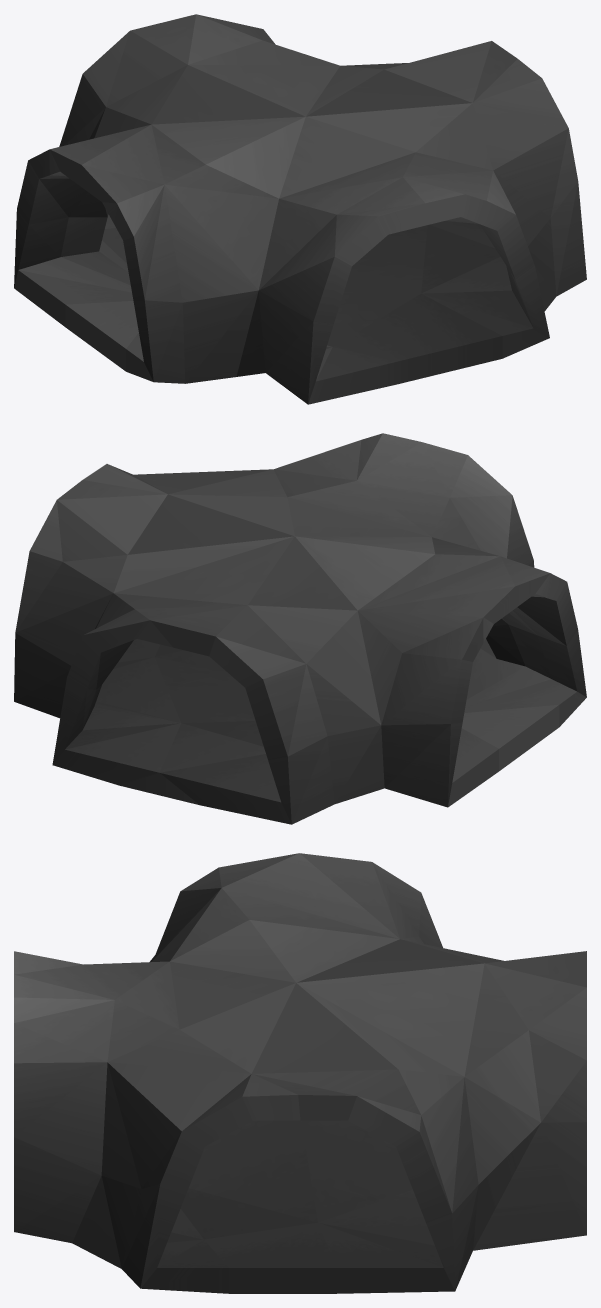
File: GL-Cave-part-02-LOD3.fbx
3 views of the same model, one above another, from view 1: azimuth 30°, elevation 25°; view 2: azimuth 150°, elevation 25°; view 3: azimuth 270°, elevation 25° (orthographic). The views are drawn at different scales.
Parts seen in each view (by area): view 1: GL_Cave_part_02; view 2: GL_Cave_part_02; view 3: GL_Cave_part_02.
Part boxes in pixels (left/top/right/bottom): GL_Cave_part_02: left=14, top=14, right=586, bottom=404; GL_Cave_part_02: left=14, top=433, right=586, bottom=824; GL_Cave_part_02: left=14, top=853, right=586, bottom=1293.
Bounding box in the file's own units: 6 × 2.3 × 6.
